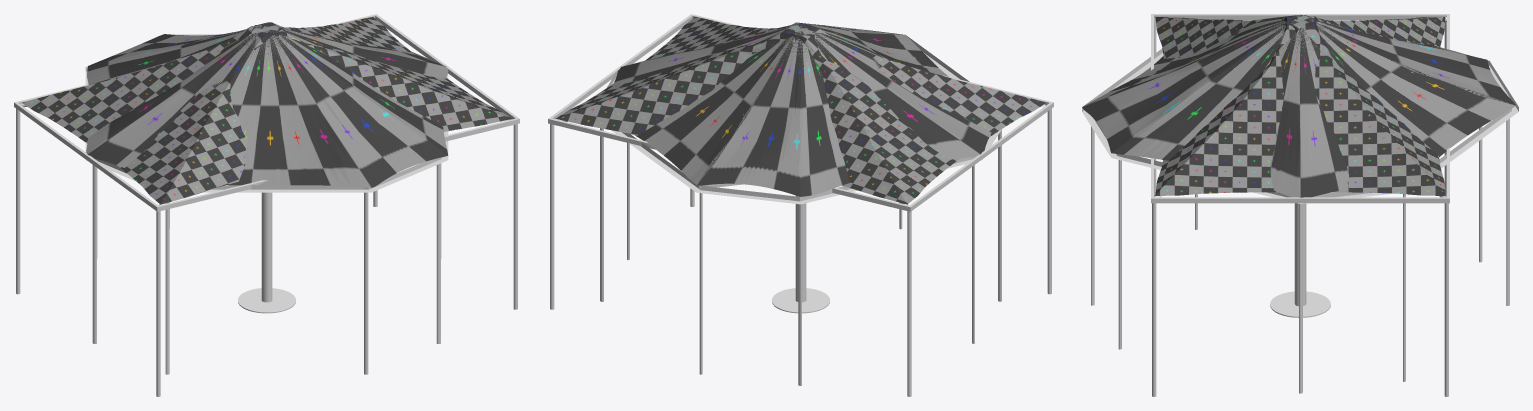
File: umbrella.glb
The picture shows the model from 3 angles, left to right: view 1: azimuth 30°, elevation 25°; view 2: azimuth 150°, elevation 25°; view 3: azimuth 270°, elevation 25°; orthographic projection. The views are drawn at different scales.
Visible parts, largest first — view 1: Truncated_CANOPY, Rectangular_CANOPY, Rectangular_Gutter, Rectangular_Columns, Square_Center_Post, Truncated_GUTTER, Square_Columns, Truncated_Columns; view 2: Truncated_CANOPY, Rectangular_CANOPY, Rectangular_Gutter, Rectangular_Columns, Truncated_GUTTER, Truncated_Columns, Square_Columns, Square_Center_Post, Rectangular_Center_Post; view 3: Truncated_CANOPY, Rectangular_CANOPY, Rectangular_Gutter, Truncated_GUTTER, Rectangular_Columns, Square_Columns, Truncated_Columns, Square_Center_Post, Rectangular_Center_Post.
Boxes of the visible parts, x1,y1,x2,y2 form: Truncated_CANOPY: [86, 26, 448, 187]; Rectangular_CANOPY: [22, 17, 511, 204]; Rectangular_Gutter: [14, 14, 519, 211]; Rectangular_Columns: [16, 108, 517, 396]; Square_Center_Post: [238, 192, 295, 313]; Truncated_GUTTER: [85, 34, 448, 192]; Square_Columns: [92, 163, 441, 374]; Truncated_Columns: [97, 163, 440, 374]; Truncated_CANOPY: [612, 23, 991, 196]; Rectangular_CANOPY: [556, 17, 1045, 204]; Rectangular_Gutter: [548, 14, 1053, 211]; Rectangular_Columns: [550, 108, 1051, 396]; Truncated_GUTTER: [607, 35, 1001, 204]; Truncated_Columns: [600, 128, 1001, 385]; Square_Columns: [627, 143, 974, 374]; Square_Center_Post: [772, 203, 829, 313]; Rectangular_Center_Post: [772, 195, 822, 313]; Truncated_CANOPY: [1082, 14, 1515, 197]; Rectangular_CANOPY: [1155, 16, 1445, 195]; Rectangular_Gutter: [1151, 14, 1449, 203]; Truncated_GUTTER: [1082, 17, 1518, 204]; Rectangular_Columns: [1152, 21, 1448, 396]; Square_Columns: [1091, 118, 1509, 393]; Truncated_Columns: [1118, 126, 1482, 381]; Square_Center_Post: [1270, 203, 1330, 316]; Rectangular_Center_Post: [1270, 203, 1330, 317].
Bounding box in the file's own units: 4.82 × 3.45 × 4.82.
Materials: 2 (2 with a texture image).
